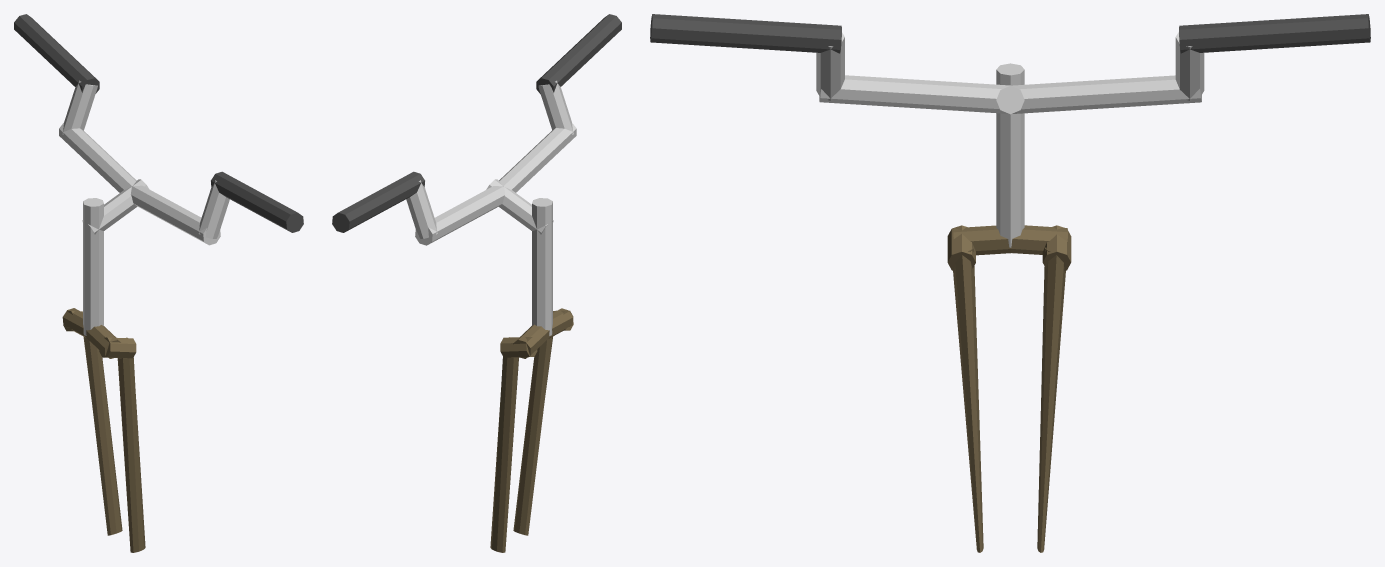
The model's file is steeringAssembly.gltf.
The picture shows the model from 3 angles, left to right: view 1: azimuth 30°, elevation 25°; view 2: azimuth 150°, elevation 25°; view 3: azimuth 270°, elevation 25°; orthographic projection. The views are drawn at different scales.
Parts seen in each view (by area): view 1: Handlebar, Fork, GripLeft, GripRight; view 2: Handlebar, Fork, GripRight, GripLeft; view 3: Handlebar, Fork, GripRight, GripLeft.
Part boxes in pixels (x1,y1,x2,y2): Handlebar: (59, 80, 229, 335); Fork: (62, 308, 145, 552); GripLeft: (14, 14, 99, 93); GripRight: (211, 171, 303, 232); Handlebar: (406, 80, 576, 335); Fork: (490, 308, 573, 552); GripRight: (536, 14, 621, 93); GripLeft: (332, 171, 424, 232); Handlebar: (816, 32, 1204, 247); Fork: (947, 225, 1071, 552); GripRight: (650, 14, 841, 53); GripLeft: (1179, 14, 1370, 53).
Size of the model in its own units: 0.6045 by 2.9 by 3.41.
